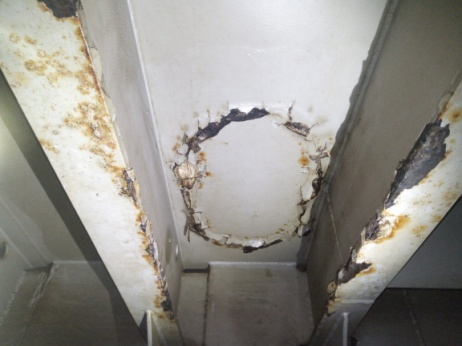corrosion: (112, 165, 166, 279), (6, 36, 103, 97), (289, 118, 322, 241), (399, 118, 454, 190), (325, 245, 375, 302), (193, 231, 286, 261), (62, 104, 114, 154), (367, 185, 408, 244), (171, 115, 228, 155), (176, 148, 199, 240), (216, 100, 288, 126), (35, 0, 91, 28), (153, 269, 179, 319)
